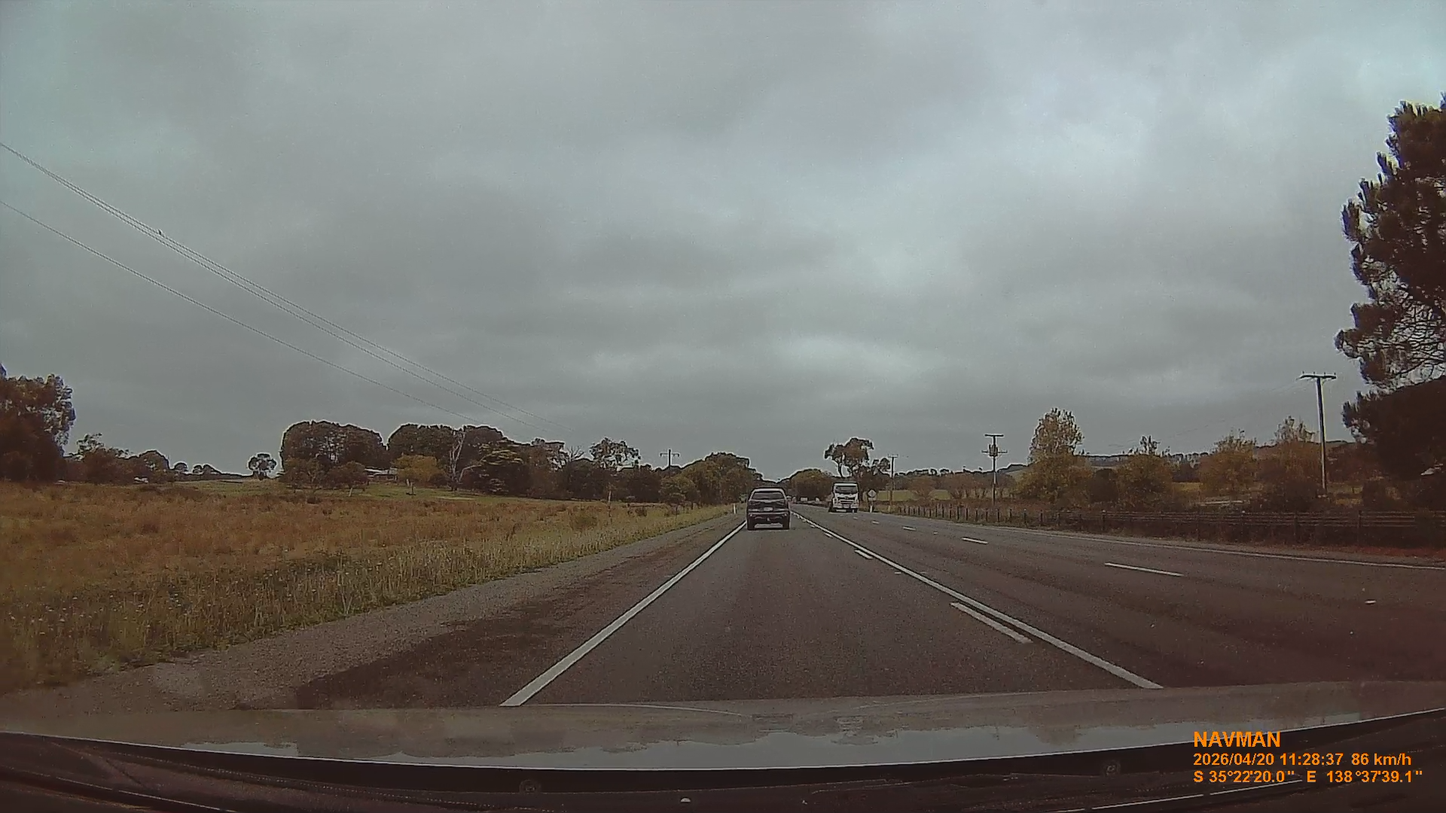fences: (838, 503, 1446, 548), (852, 506, 1443, 548)
